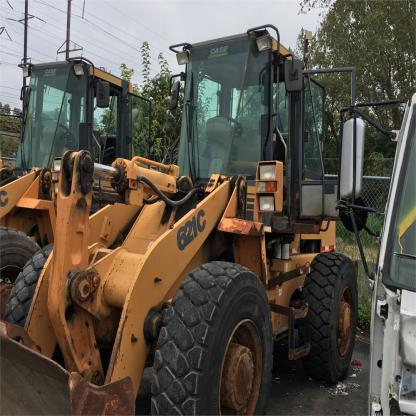bull_dozer/loader/grader: (12, 27, 362, 411)
